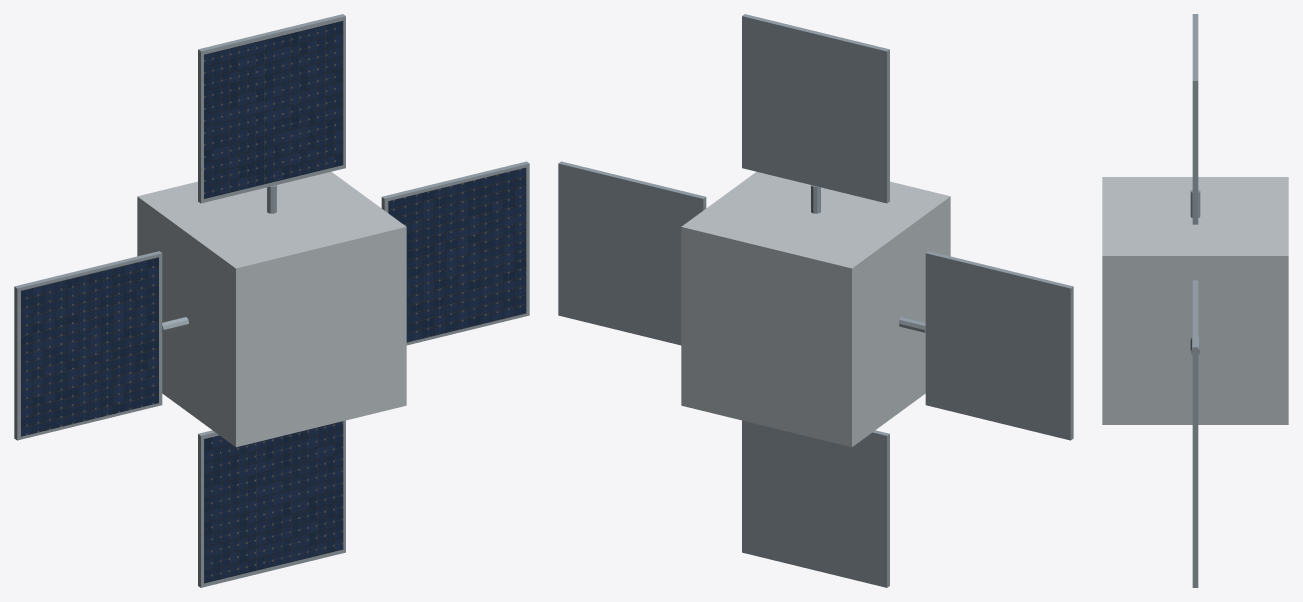
File: ref-astrid-23464.glb
3 renders of one model, left to right at view 1: azimuth 30°, elevation 25°; view 2: azimuth 150°, elevation 25°; view 3: azimuth 270°, elevation 25°, orthographic. The views are drawn at different scales.
Visible parts, largest first — view 1: Photovoltaic laminates (×4), Spacecraft body, Array frame (×4); view 2: Array frame (×4), Spacecraft body; view 3: Spacecraft body, Array frame (×3).
Boxes of the visible parts, x1=… form: Photovoltaic laminates (×4): x1=21, y1=21, x2=526, y2=583; Spacecraft body: x1=137, y1=171, x2=406, y2=447; Array frame (×4): x1=14, y1=14, x2=529, y2=587; Array frame (×4): x1=558, y1=14, x2=1073, y2=587; Spacecraft body: x1=681, y1=171, x2=950, y2=447; Spacecraft body: x1=1102, y1=177, x2=1288, y2=424; Array frame (×3): x1=1192, y1=14, x2=1198, y2=587.
Bounding box in the file's own units: 1.2 × 1.2 × 0.4.
3 materials, 1 textured.
